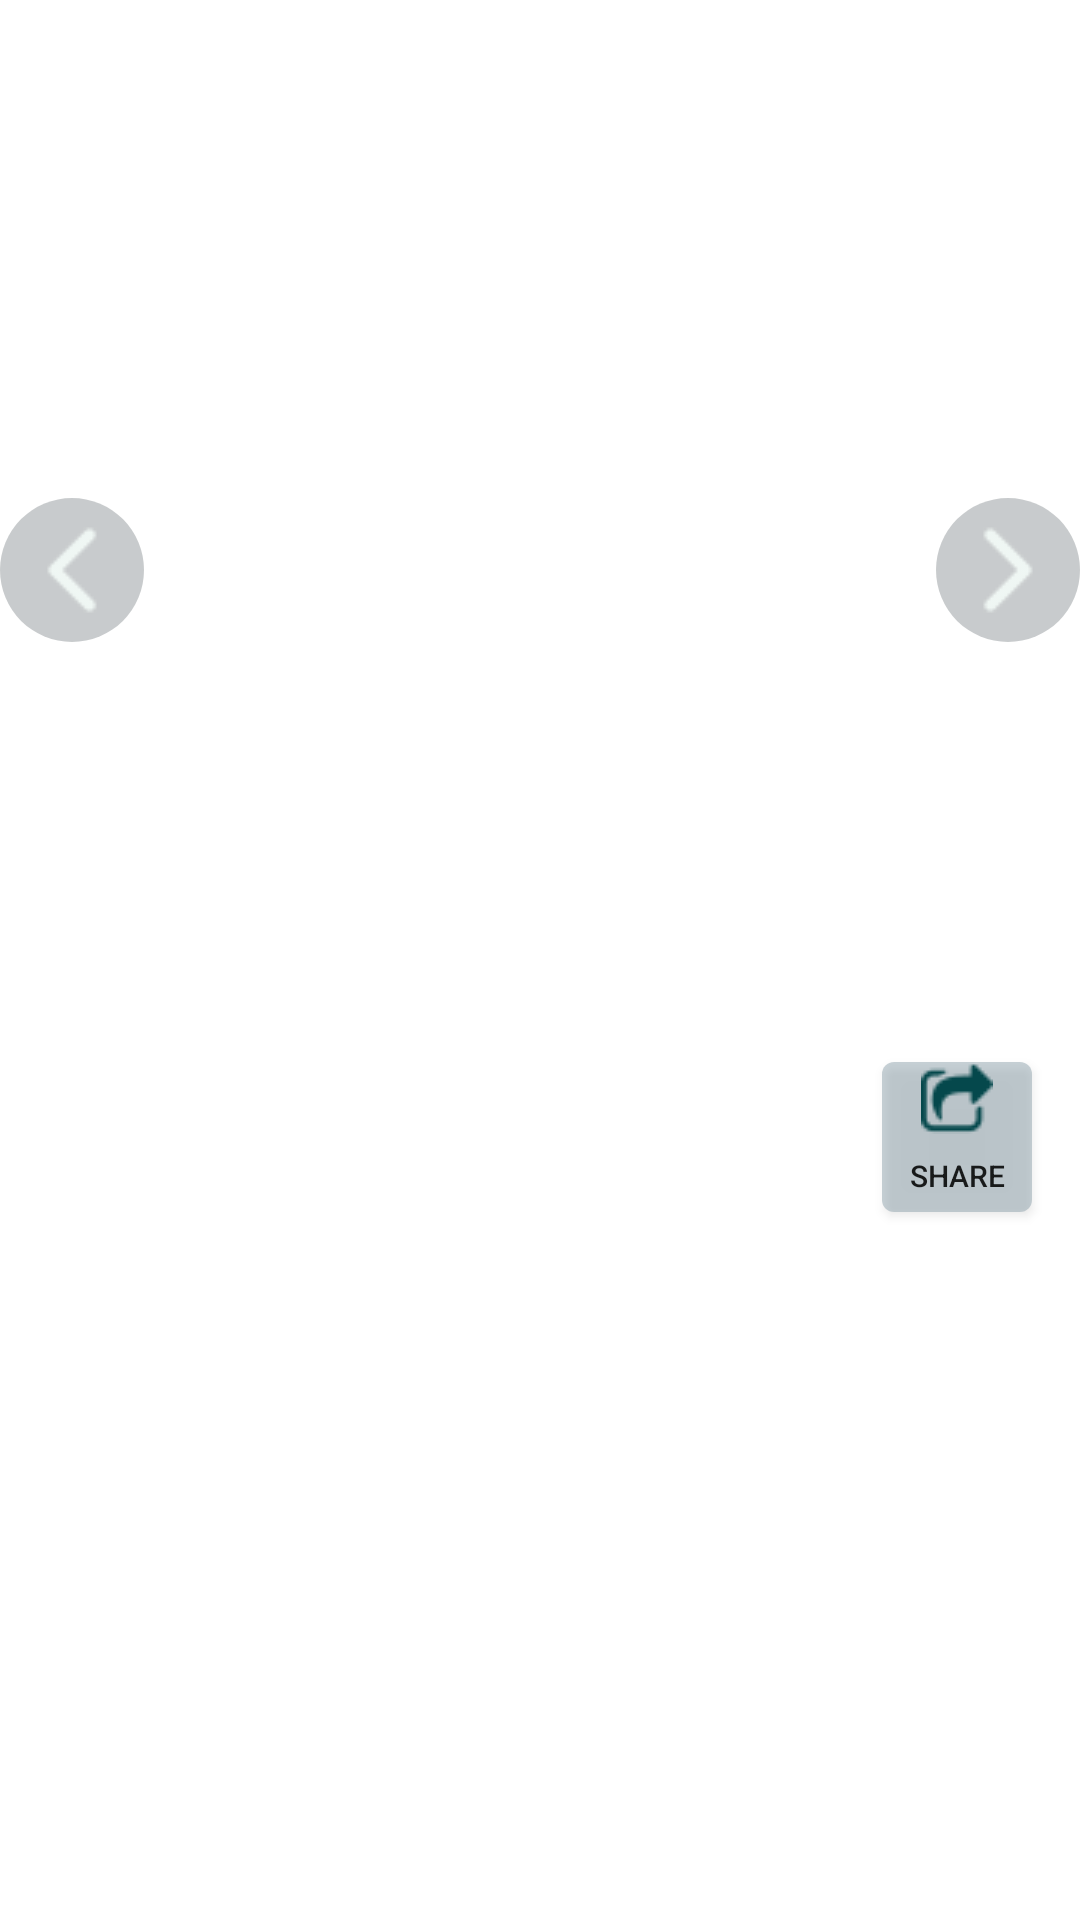

Point at icon controls on the screen. Image size 1080w x 1920h, points as (x,y).
left: (72,570)
right: (1008,570)
